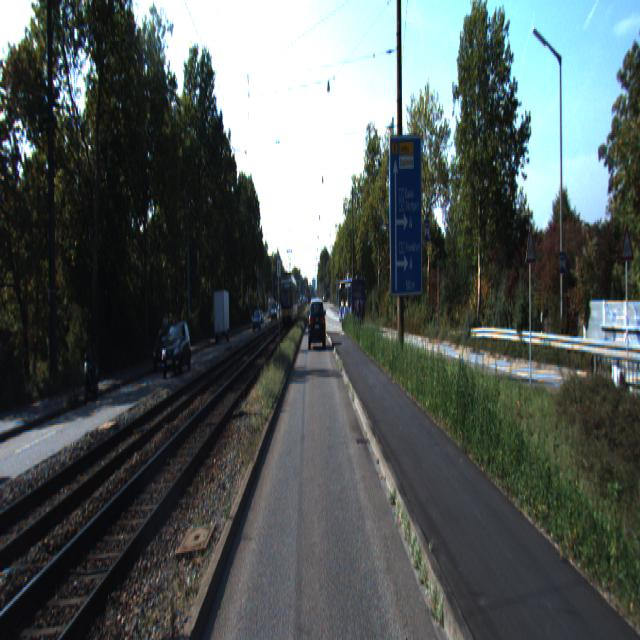Car: (160, 319, 192, 379), (338, 278, 366, 330), (152, 322, 179, 370), (82, 355, 102, 404), (213, 288, 229, 343), (309, 299, 325, 350)
